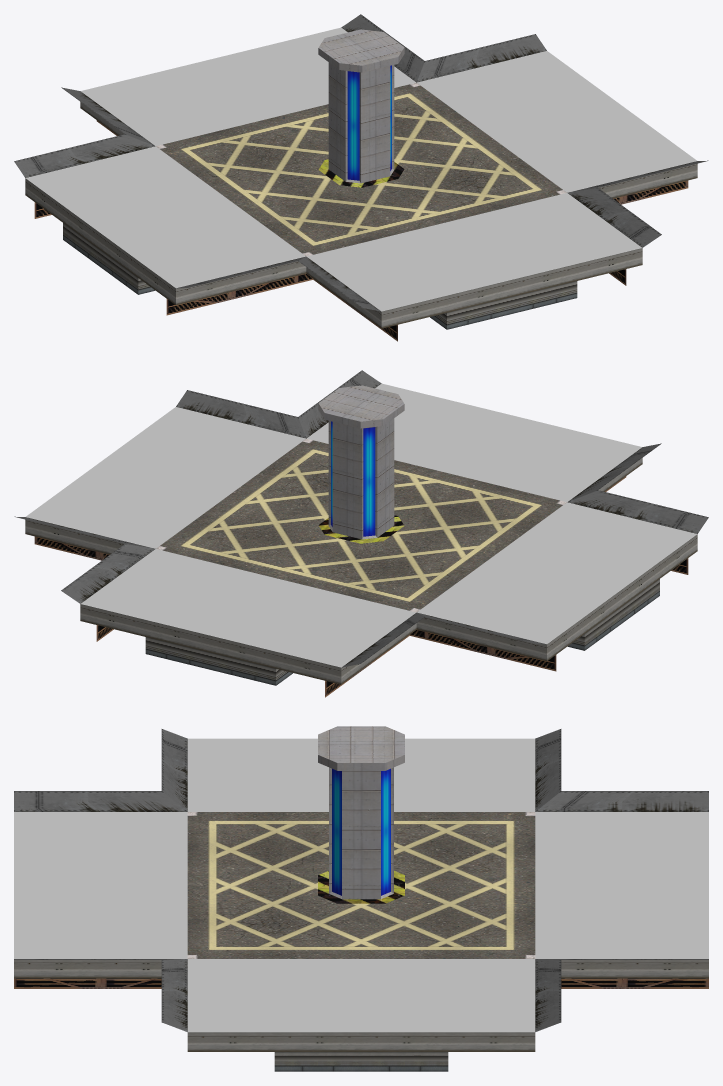
Rendered from Crossing2.fbx.
The picture shows the model from 3 angles, top to bottom: view 1: azimuth 30°, elevation 25°; view 2: azimuth 150°, elevation 25°; view 3: azimuth 270°, elevation 25°; orthographic projection. The views are drawn at different scales.
Visible parts, largest first — view 1: Empty_Mesh; view 2: Empty_Mesh; view 3: Empty_Mesh.
Part boxes in pixels (box(x1,y1,x2,y2)): Empty_Mesh: box(14, 14, 708, 341); Empty_Mesh: box(14, 370, 708, 697); Empty_Mesh: box(14, 726, 708, 1071).
Bounding box in the file's own units: 32 × 9.15 × 32.
